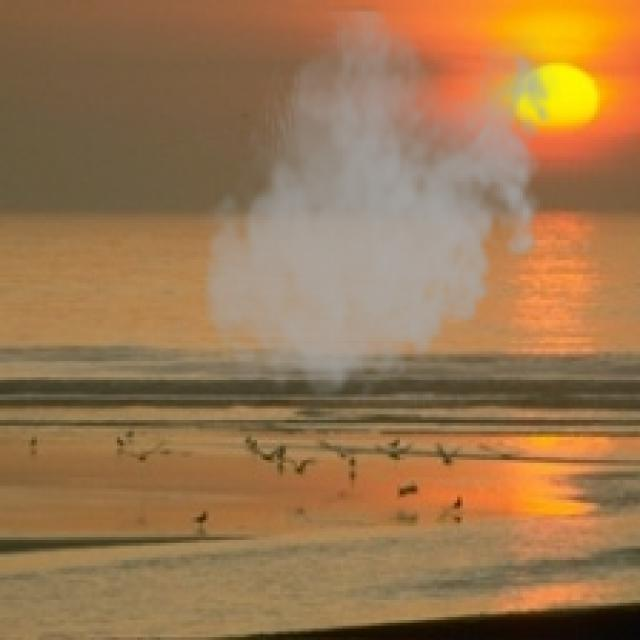Smoke: (194, 6, 563, 412)
